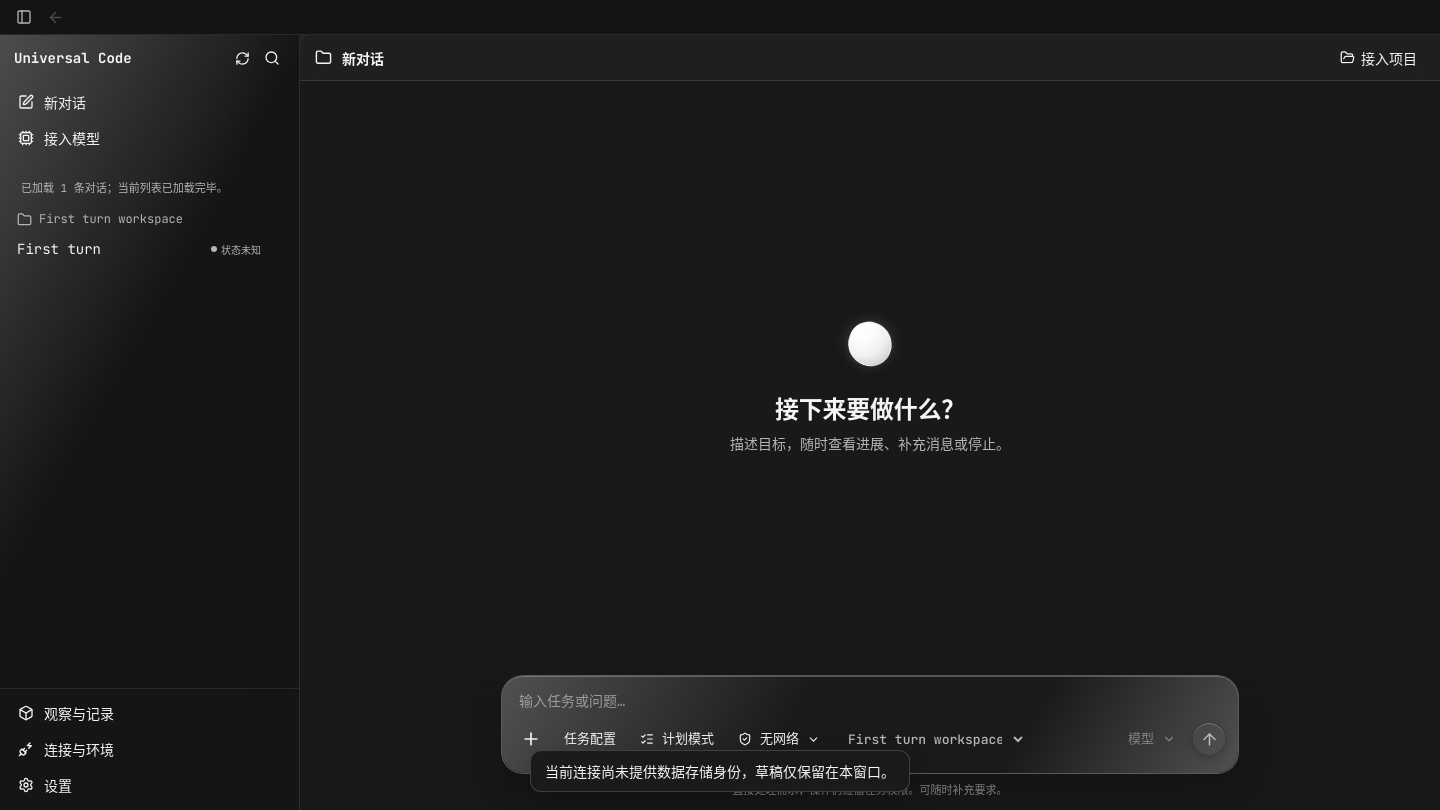
Test: V2Workbench inspector navigation › retains project selection, new-task draft and references before a Thread exists
Type "没有创建任务前的需求" into the text box named "开始新对话" at (870, 695), box [502,676,1238,714]
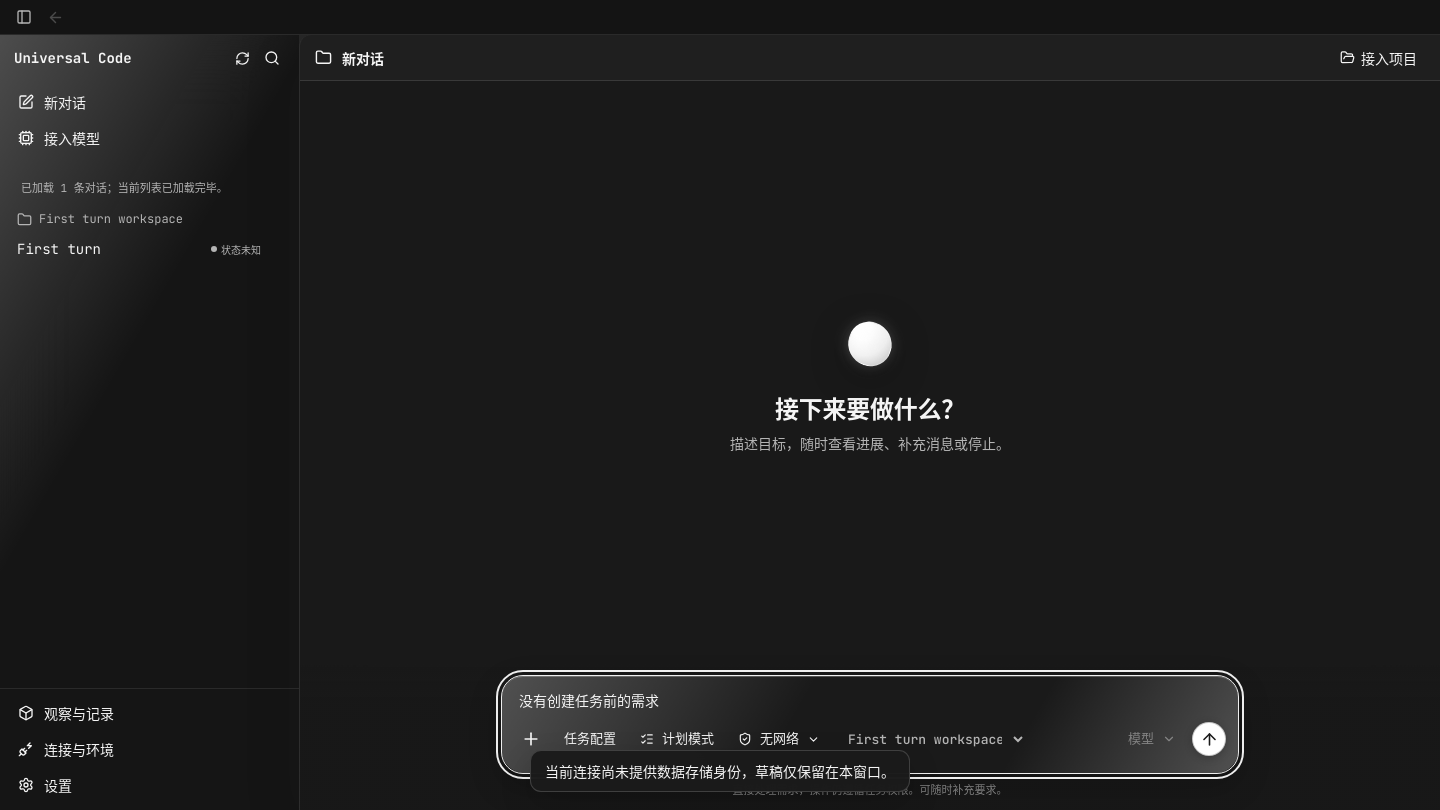
Expected: the dropdown named "选择工作区" shows "First turn workspace", [836,722,1026,756]
Click the button "观察与记录" at (79, 714), box [8,696,291,730]
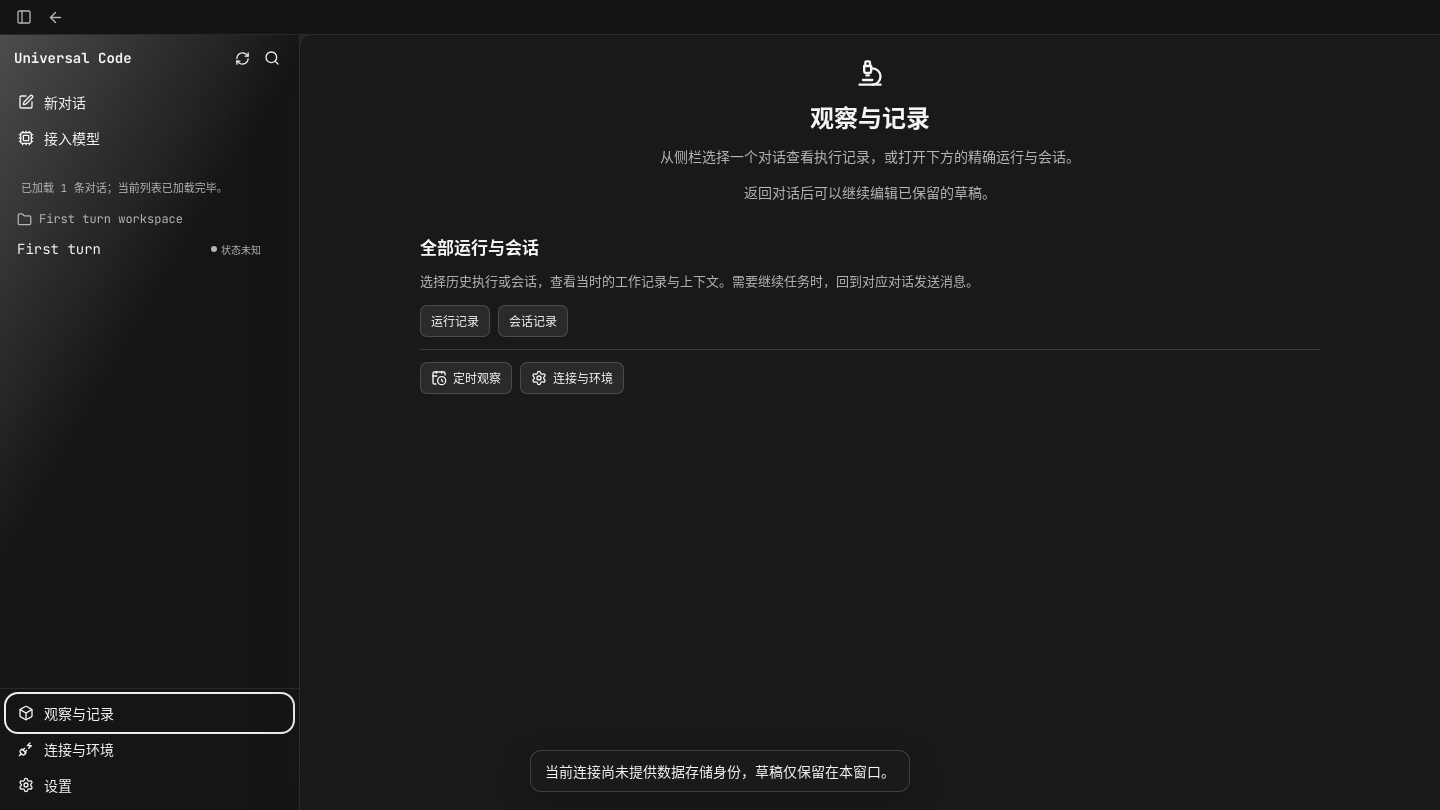
Click the button "设置" at (26, 785), box [8,768,291,802]
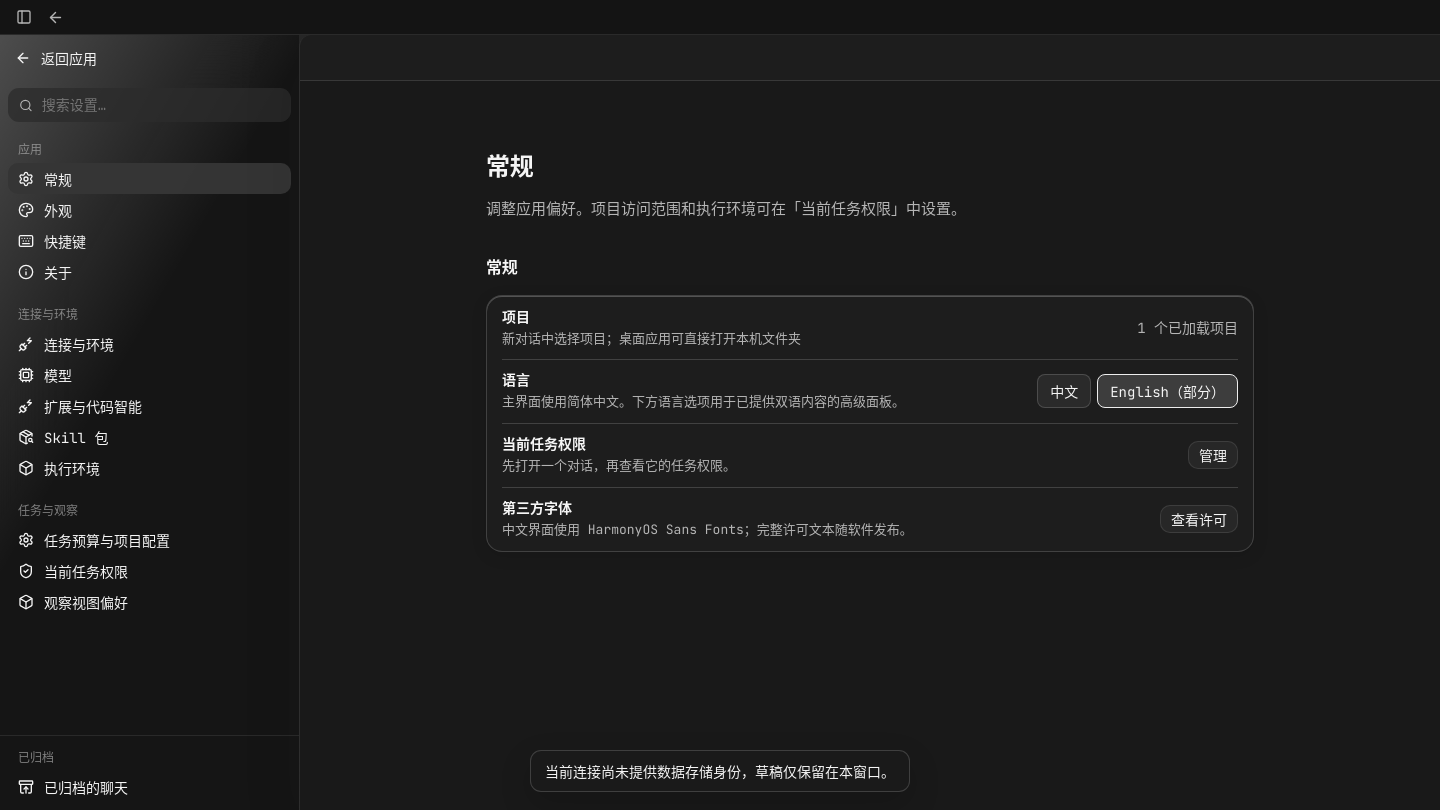
Click the button "返回应用" at (69, 59), box [0,35,299,81]
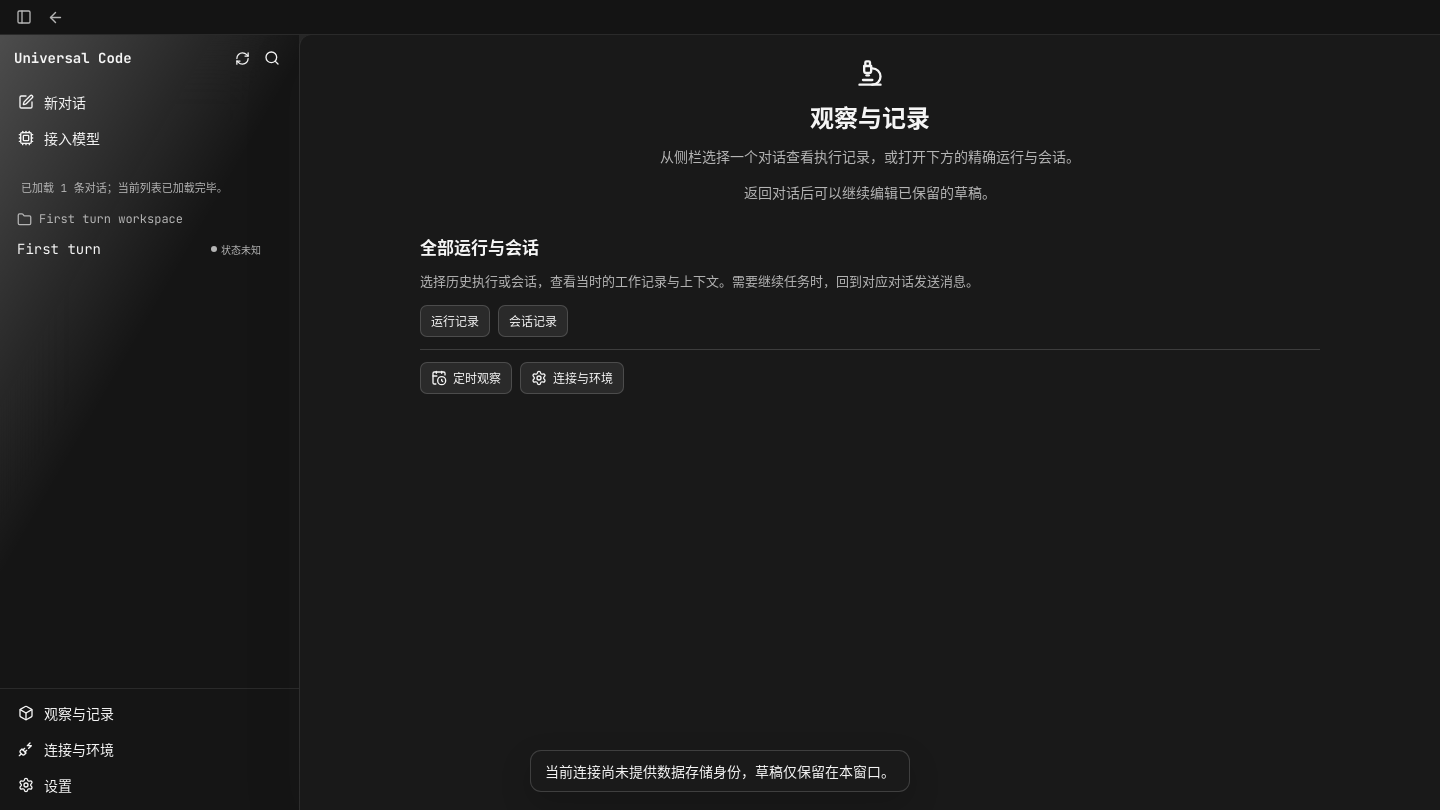
Click the button "观察与记录" at (79, 714), box [8,696,291,730]
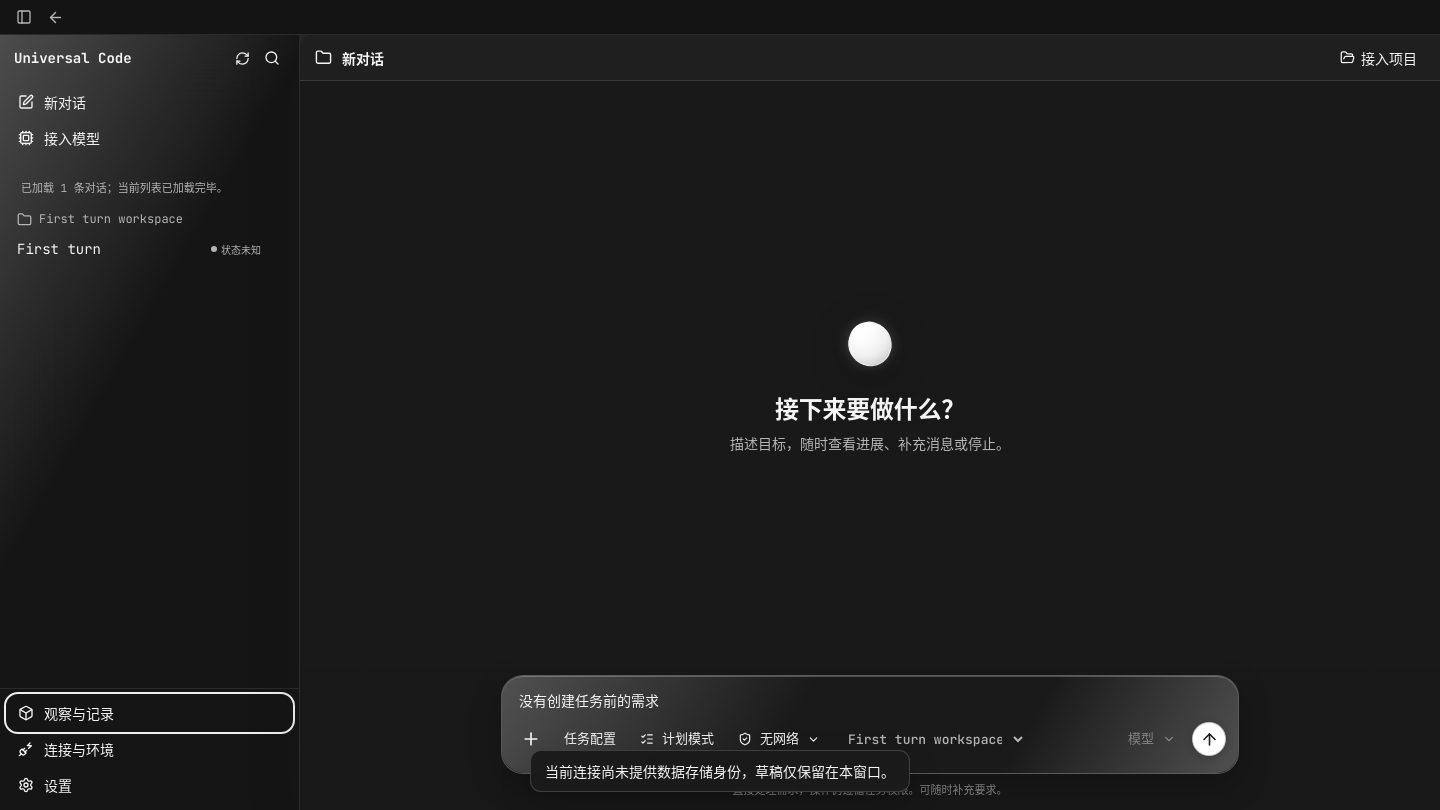
Expected: the text box named "开始新对话" holds "没有创建任务前的需求", [502,676,1238,714]
Expected: the dropdown named "选择工作区" shows "First turn workspace", [836,722,1026,756]
